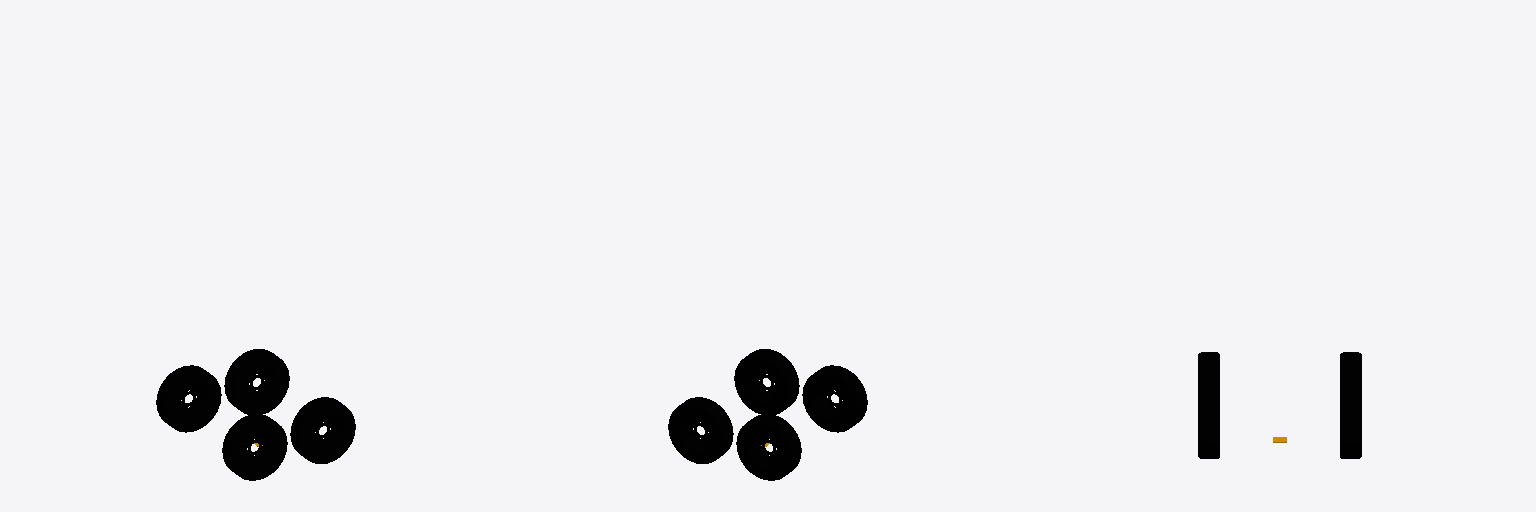
URDF robot description (wp_v4):
<?xml version="1.0"?>
<robot name="wp_v4">

  <!-- material -->
  <material name = "black">
    <color rgba = "0.01 0.01 0.01 1"/>
  </material>
  <material name = "grey">
    <color rgba = "0.2 0.2 0.2 1"/>
  </material>
  <material name = "blue">
    <color rgba = "0.2 0.2 0.9 1"/>
  </material>


<link name="base_footprint">
    <visual>
      <origin xyz="0 0 0" rpy="0 0 0" />
      <geometry>
        <box size="0.05 0.05 0.001" />
      </geometry>
      <material name="TransparentGreen" />
    </visual>
    <collision>
      <origin xyz="0 0 .1" rpy="0 0 0" />
      <geometry>
        <box size="0.76 0.5 .2"/>
      </geometry>
    </collision>
    <inertial>
    <mass value="10"/>
    <inertia ixx="0.4" ixy="0.0" ixz="0.0" iyy="0.4" iyz="0.0" izz="0.2"/>
    </inertial>
</link>

<joint name="base_joint" type="fixed">
  <origin xyz="0 0 0.09" rpy="0 0 0" />
  <parent link="base_footprint"/>
  <child link="base_link" />
</joint>

  <!-- base -->
  <link name="base_link">
  <visual>
   <geometry>
    <cylinder length="0.6" radius="0.0"/>
   </geometry>
   <origin rpy = "0 0 0" xyz = "0 0 0"/>
  </visual>
  </link>

  <!-- body -->
  <link name = "body_link">
    <visual>
      <geometry>
        <mesh filename="package://wpv4_bringup/meshes/body.dae" scale="1 1 1"/>
      </geometry>
      <origin rpy = "1.57 0 1.57" xyz = "-0.38 -0.25 0"/>
    </visual>
    <collision>
      <origin xyz="0 0 .15" rpy="0 0 0" />
      <geometry>
        <box size="0.76 0.5 0.095"/>
      </geometry>
    </collision>
    <inertial>
    <mass value="10"/>
    <inertia ixx="0.4" ixy="0.0" ixz="0.0" iyy="0.4" iyz="0.0" izz="0.2"/>
    </inertial>
  </link>
  <joint name = "base_to_body" type = "fixed">
    <parent link = "base_link"/>
    <child link = "body_link"/>
    <origin rpy="0 0 0" xyz="0 0 0"/> <!--pos-->
  </joint>
  <gazebo reference = "body_link">
            <turnGravityOff>false</turnGravityOff>
  </gazebo>

  <!-- wheel -->
  <link name = "lf_wheel">
    <visual>
      <geometry>
        <mesh filename="package://wpv4_bringup/meshes/wheel.dae" scale="1 1 1"/>
      </geometry>
      <origin rpy = "0 0 0" xyz = "-0.13  -0.04 -0.13"/>
      <material name = "black"/>
    </visual>
    <collision>
      <origin xyz="0 0 0" rpy="1.57 0 0" />
      <geometry>
        <cylinder radius="0.13" length="0.08"/>
      </geometry>
    </collision>
    <inertial>
    <mass value="10"/>
    <inertia ixx="0.4" ixy="0.0" ixz="0.0" iyy="0.4" iyz="0.0" izz="0.2"/>
    </inertial>
  </link>
  <joint name = "base_to_lf_wheal" type = "continuous">
    <axis rpy="0 0 0" xyz="0 1 0"/>
    <parent link = "base_link"/>
    <child link = "lf_wheel"/>
    <origin rpy="0 0 0" xyz="0.135 0.26 0.038"/> <!--pos to base-->
  </joint>
   <gazebo reference = "lf_wheel">
            <mu1 value = "1.0"/>
            <mu2 value = "1.0"/>
            <kp value = "10.0"/>
            <kd value = "1.0"/>
            <fdir1 value = "1 0 0"/>
            <turnGravityOff>true</turnGravityOff>
  </gazebo>

<link name = "rf_wheel">
  <visual>
    <geometry>
      <mesh filename="package://wpv4_bringup/meshes/wheel.dae" scale="1 1 1"/>
    </geometry>
    <origin rpy = "0 0 0" xyz = "-0.13  -0.04 -0.13"/>
    <material name = "black"/>
  </visual>
  <collision>
    <origin xyz="0 0 0" rpy="1.57 0 0" />
    <geometry>
      <cylinder radius="0.13" length="0.08"/>
    </geometry>
  </collision>
  <inertial>
  <mass value="10"/>
  <inertia ixx="0.4" ixy="0.0" ixz="0.0" iyy="0.4" iyz="0.0" izz="0.2"/>
  </inertial>
</link>
<joint name = "base_to_rf_wheal" type = "continuous">
  <axis rpy="0 0 0" xyz="0 -1 0"/>
  <parent link = "base_link"/>
  <child link = "rf_wheel"/>
  <origin rpy="0 0 3.14" xyz="0.135 -0.26 0.038"/> <!--pos-->
</joint>
 <gazebo reference = "rf_wheel">
            <mu1 value = "1.0"/>
            <mu2 value = "1.0"/>
            <kp value = "10.0"/>
            <kd value = "1.0"/>
            <fdir1 value = "1 0 0"/>
            <turnGravityOff>false</turnGravityOff>
        </gazebo>

<link name = "lb_wheel">
  <visual>
    <geometry>
      <mesh filename="package://wpv4_bringup/meshes/wheel.dae" scale="1 1 1"/>
    </geometry>
    <origin rpy = "0 0 0" xyz = "-0.13  -0.04 -0.13"/>
    <material name = "black"/>
  </visual>
  <collision>
    <origin xyz="0 0 0" rpy="1.57 0 0" />
    <geometry>
      <cylinder radius="0.13" length="0.08"/>
    </geometry>
  </collision>
  <inertial>
  <mass value="10"/>
  <inertia ixx="0.4" ixy="0.0" ixz="0.0" iyy="0.4" iyz="0.0" izz="0.2"/>
  </inertial>
</link>
<joint name = "base_to_lb_wheal" type = "continuous">
  <axis rpy="0 0 0" xyz="0 1 0"/>
  <parent link = "base_link"/>
  <child link = "lb_wheel"/>
  <origin rpy="0 0 0" xyz="-0.175 0.26 0.038"/> <!--pos to base-->
</joint>
 <gazebo reference = "lb_wheel">
            <mu1 value = "1.0"/>
            <mu2 value = "1.0"/>
            <kp value = "10.0"/>
            <kd value = "1.0"/>
            <fdir1 value = "1 0 0"/>
            <material>Gazebo/Black</material>
            <turnGravityOff>false</turnGravityOff>
        </gazebo>

<link name = "rb_wheel">
  <visual>
    <geometry>
      <mesh filename="package://wpv4_bringup/meshes/wheel.dae" scale="1 1 1"/>
    </geometry>
    <origin rpy = "0 0 0" xyz = "-0.13  -0.04 -0.13"/>
    <material name = "black"/>
  </visual>
  <collision>
    <origin xyz="0 0 0" rpy="1.57 0 0" />
    <geometry>
      <cylinder radius="0.13" length="0.08"/>
    </geometry>
  </collision>
  <inertial>
  <mass value="10"/>
  <inertia ixx="0.4" ixy="0.0" ixz="0.0" iyy="0.4" iyz="0.0" izz="0.2"/>
  </inertial>
</link>
<joint name = "base_to_rb_wheal" type = "continuous">
  <axis rpy="0 0 0" xyz="0 -1 0"/>
  <parent link = "base_link"/>
  <child link = "rb_wheel"/>
  <origin rpy="0 0 3.14" xyz="-0.175 -0.26 0.038"/> <!--pos-->
</joint>
 <gazebo reference = "rb_wheel">
            <mu1 value = "1.0"/>
            <mu2 value = "1.0"/>
            <kp value = "10.0"/>
            <kd value = "1.0"/>
            <fdir1 value = "1 0 0"/>
            <material>Gazebo/Black</material>
            <turnGravityOff>false</turnGravityOff>
        </gazebo>

<!-- Lidar -->
<link name = "laser">
  <visual>
   <geometry>
    <cylinder length="0.00" radius="0.00"/>
   </geometry>
   <origin rpy = "0 0 0" xyz = "0 0 0"/>
  </visual>
  <collision>
    <origin xyz="0 0 0" rpy="0 0 0" />
    <geometry>
      <cylinder radius="0.03" length="0.03"/>
    </geometry>
  </collision>
  <inertial>
  <mass value="10"/>
  <inertia ixx="0.4" ixy="0.0" ixz="0.0" iyy="0.4" iyz="0.0" izz="0.2"/>
  </inertial>
</link>
<joint name="laser_joint" type="fixed">
    <origin rpy="0 0 0" xyz="0.2 0 0"  /> <!--pos-->
    <parent link="base_link" />
    <child link="laser" />
</joint>

<!-- velodyne -->
<link name = "velo_link">
  <visual>
   <geometry>
    <cylinder length="0.00" radius="0.00"/>
   </geometry>
   <origin rpy = "0 0 0" xyz = "0 0 0"/>
  </visual>
</link>
<joint name="velodyne_joint" type="fixed">
    <origin rpy="0 0 0" xyz="0.2 0 1.7"  /> <!--pos-->
    <parent link="base_link" />
    <child link="velo_link" />
</joint>

<!-- Kinect -->
<link name = "kinect2_ir_optical_frame">
  <visual>
   <geometry>
    <box size="0 0 0"/>
   </geometry>
   <origin rpy = "0 0 0" xyz = "0 0 0"/>
   <material name = "blue"/>
  </visual>
  <collision>
      <origin xyz="0 0 0" rpy="0 0 0" />
      <geometry>
        <box size=".25 .04 .07"/>
      </geometry>
    </collision>
    <inertial>
    <mass value="10"/>
    <inertia ixx="0.4" ixy="0.0" ixz="0.0" iyy="0.4" iyz="0.0" izz="0.2"/>
    </inertial>
</link>
<joint name="kinect_joint" type="fixed">
    <origin xyz="0.2 0 0.2" rpy="-1.5707963 0 -1.5707963" /> <!--pos-->
    <parent link="base_link" />
    <child link="kinect2_ir_optical_frame" />
</joint>

<!-- Gazebo plugin for ROS Control -->
<gazebo>
  <plugin name="gazebo_ros_control" filename="libgazebo_ros_control.so">
    <robotNamespace>/</robotNamespace>
  </plugin>
</gazebo>

</robot>

--- Facts derived from the render (not from the file) ---
The picture shows the robot from 3 angles, left to right: view 1: azimuth 30°, elevation 25°; view 2: azimuth 150°, elevation 25°; view 3: azimuth 270°, elevation 25°; orthographic projection.
Model wp_v4 with 10 links and 9 joints (4 continuous, 5 fixed), rooted at base_footprint, posed every joint at zero.
Visible links, largest first — view 1: rf_wheel, rb_wheel, lb_wheel, lf_wheel; view 2: lf_wheel, lb_wheel, rb_wheel, rf_wheel; view 3: lf_wheel, rf_wheel, rb_wheel, lb_wheel.
Boxes of the visible links, x1,y1,x2,y2 form: rf_wheel: (290,397,355,463); rb_wheel: (222,414,287,480); lb_wheel: (156,365,221,432); lf_wheel: (224,349,289,414); lf_wheel: (668,397,733,463); lb_wheel: (736,414,801,480); rb_wheel: (802,365,867,432); rf_wheel: (734,349,799,414); lf_wheel: (1340,388,1361,458); rf_wheel: (1198,388,1219,458); rb_wheel: (1198,352,1219,389); lb_wheel: (1340,352,1361,389).
Bounding box of the posed robot: 0.5701 × 0.6002 × 2 m (x, y, z).
Meshes: 2 distinct files referenced, 4 mesh visuals loaded (1 Collada DAE); not drawn: 1 (file found but could not be loaded).
